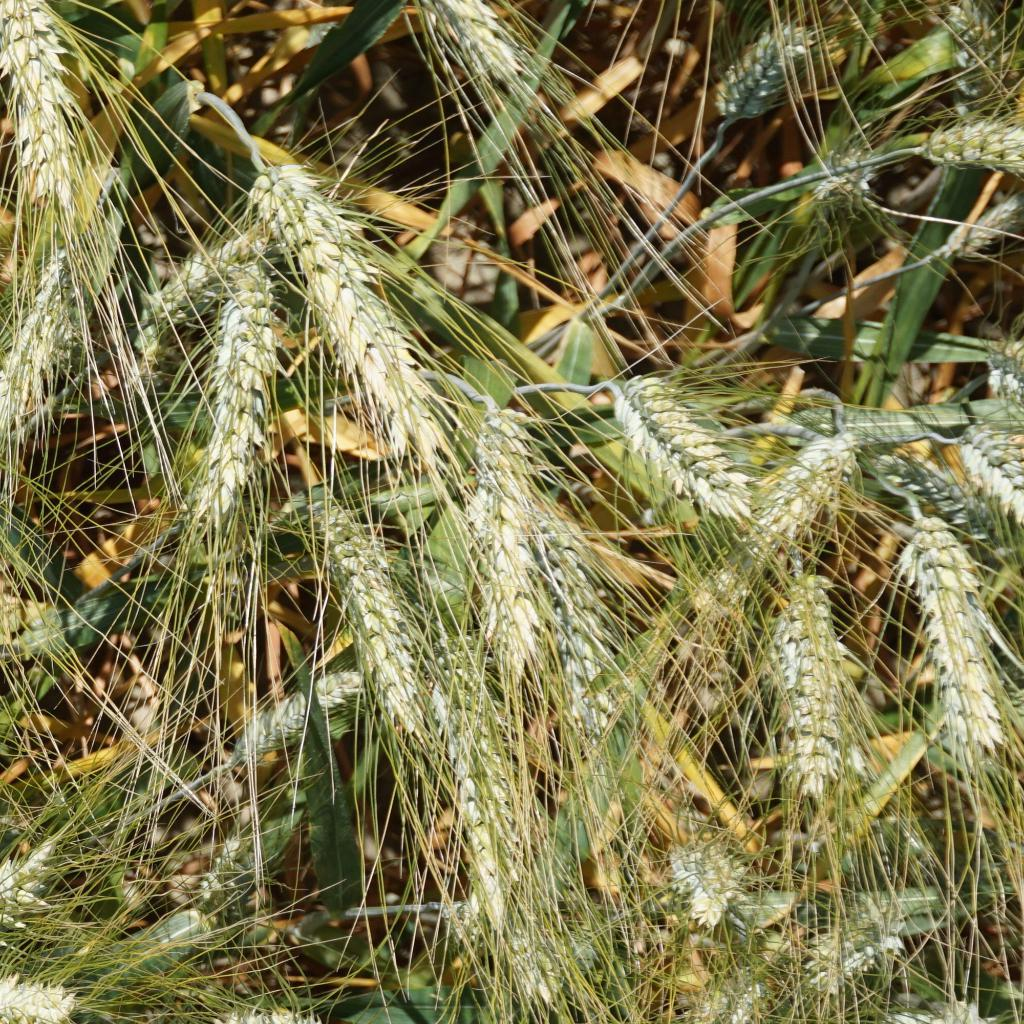0-0: (247, 150, 433, 456), (424, 627, 535, 878), (904, 506, 1010, 756), (309, 506, 423, 732), (468, 395, 547, 662), (608, 368, 751, 515), (196, 272, 281, 515), (0, 0, 99, 202), (4, 239, 96, 447), (772, 563, 846, 787), (738, 415, 856, 540), (541, 526, 614, 704), (710, 19, 821, 127), (233, 668, 352, 754), (431, 0, 535, 98), (873, 440, 981, 532), (141, 228, 258, 311), (669, 827, 752, 933), (794, 910, 894, 995), (951, 408, 1024, 520), (199, 808, 266, 930), (936, 0, 1006, 116), (666, 952, 771, 1024), (668, 628, 745, 726), (940, 188, 1020, 270), (916, 116, 1024, 172), (516, 913, 572, 1006), (672, 558, 747, 625), (811, 135, 877, 203), (0, 968, 76, 1024), (0, 868, 35, 971), (211, 1001, 344, 1024), (447, 894, 494, 946), (0, 802, 15, 842)
